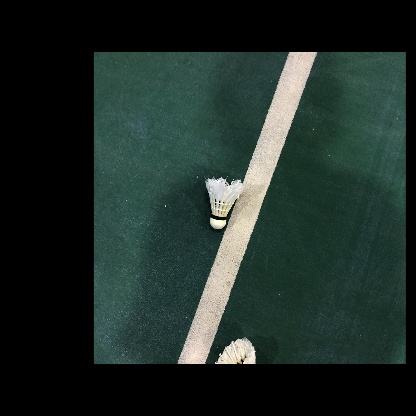ball_single: (205, 178, 243, 229), (215, 338, 255, 364)
